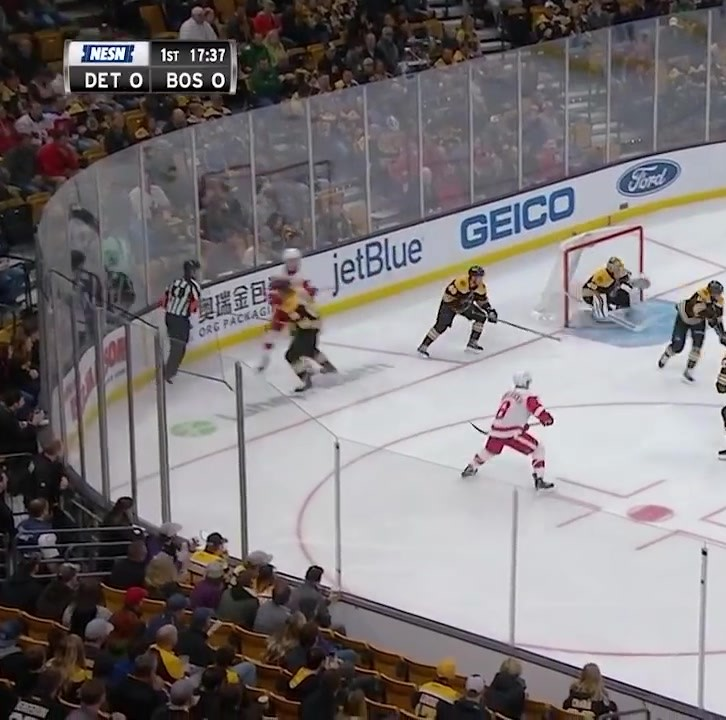Geico: (454, 183, 582, 254)
